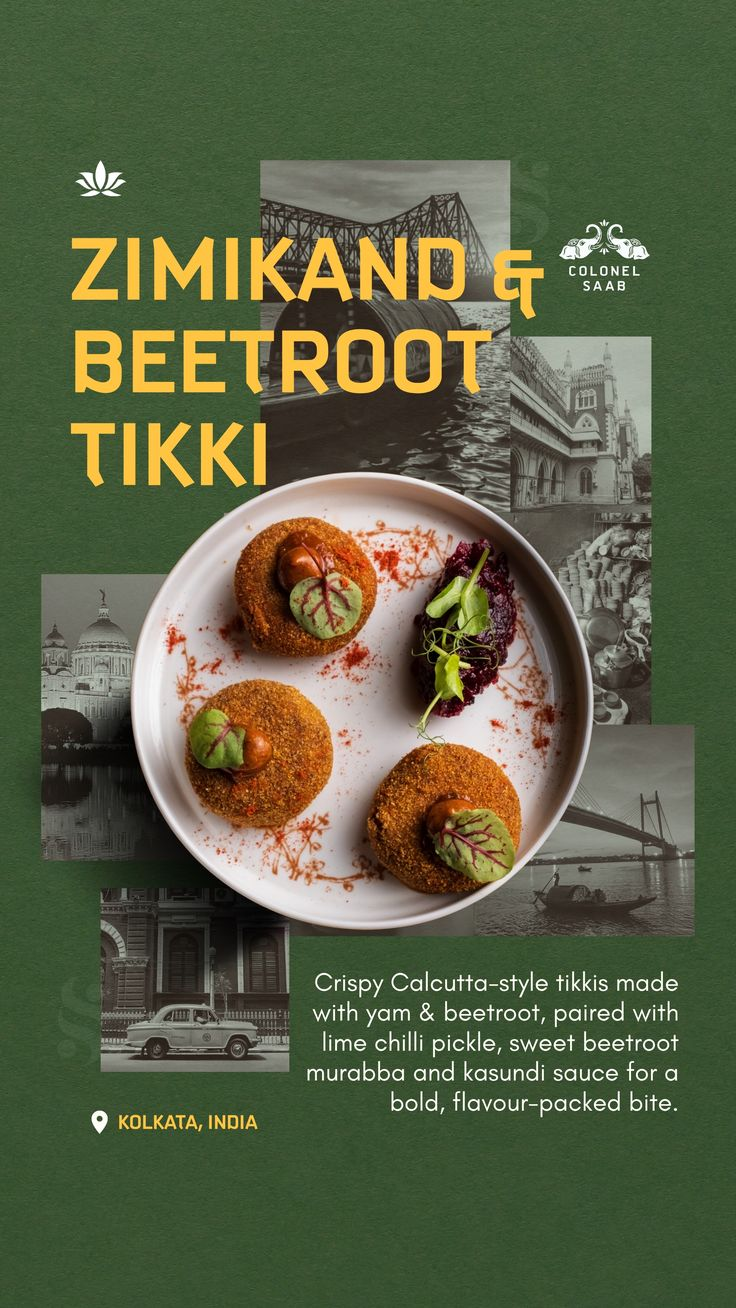Headline: (50, 220, 540, 484)
Product: (152, 498, 570, 898)
logo: (558, 216, 656, 308)
